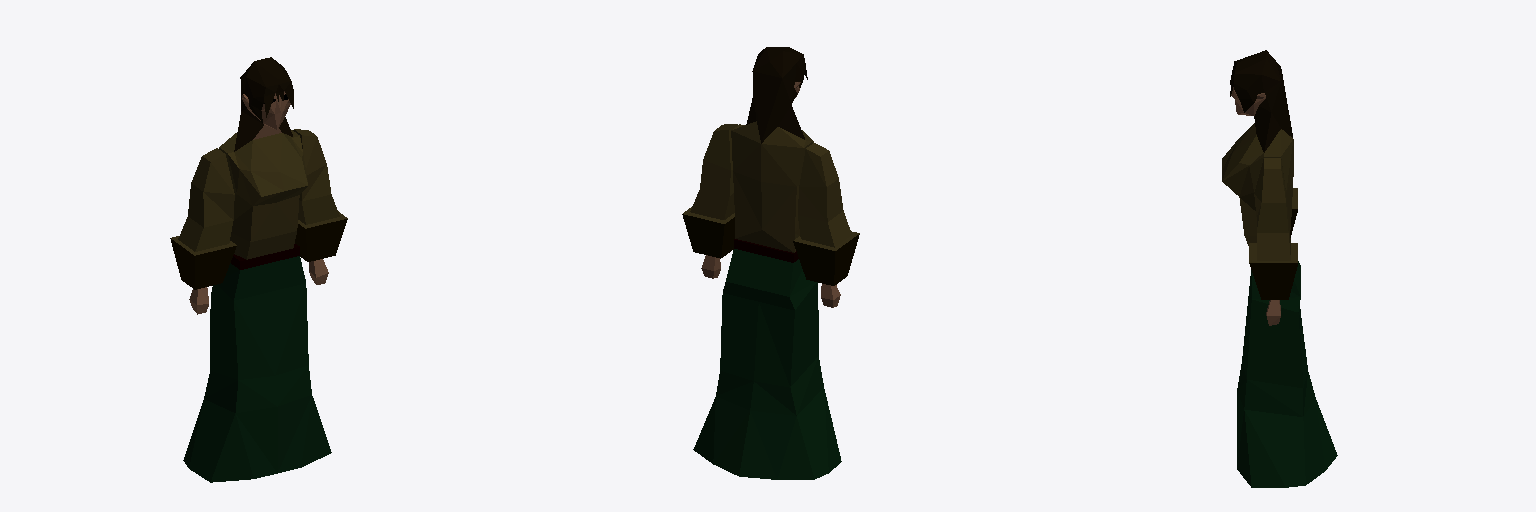
Rendered from character2.obj.
3 views of the same model, side by side, from view 1: azimuth 30°, elevation 25°; view 2: azimuth 150°, elevation 25°; view 3: azimuth 270°, elevation 25° (orthographic).
Bounding box in the file's own units: 72 × 181 × 47.